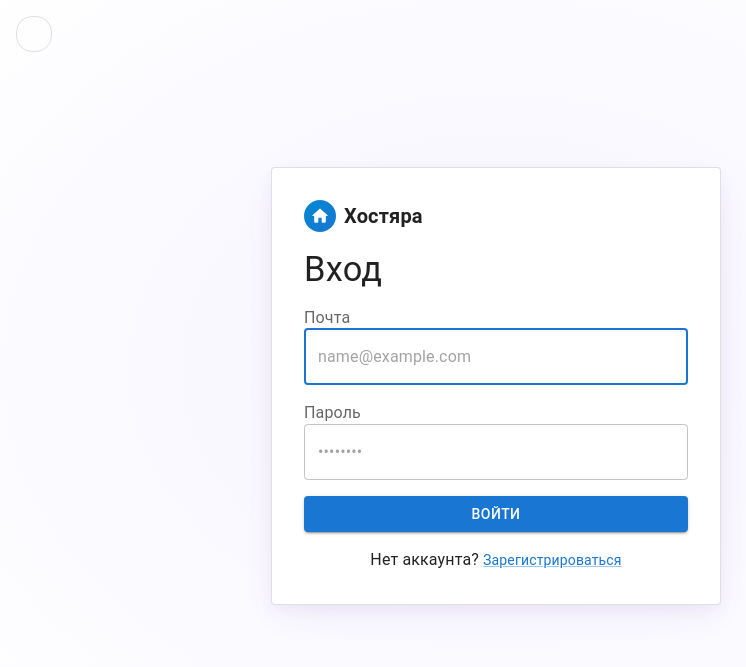
SessionGate › shows a wrong password without leaving the login screen
This screenshot has width=746, height=667.
Type "anna@example.com" into the field labelled "Почта" at (496, 357), box [304,329,688,385]
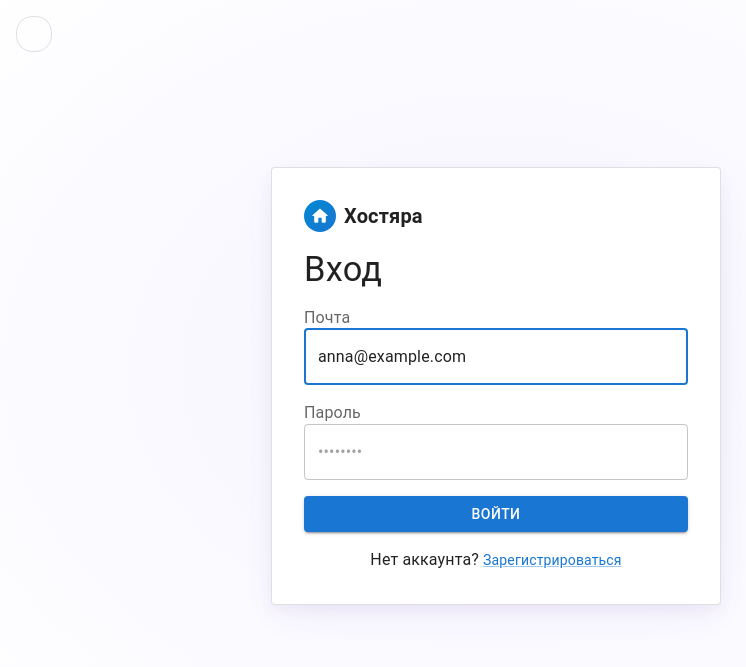
Type "wrong-password" into the password field labelled "Пароль" at (496, 452), box [304,424,688,480]
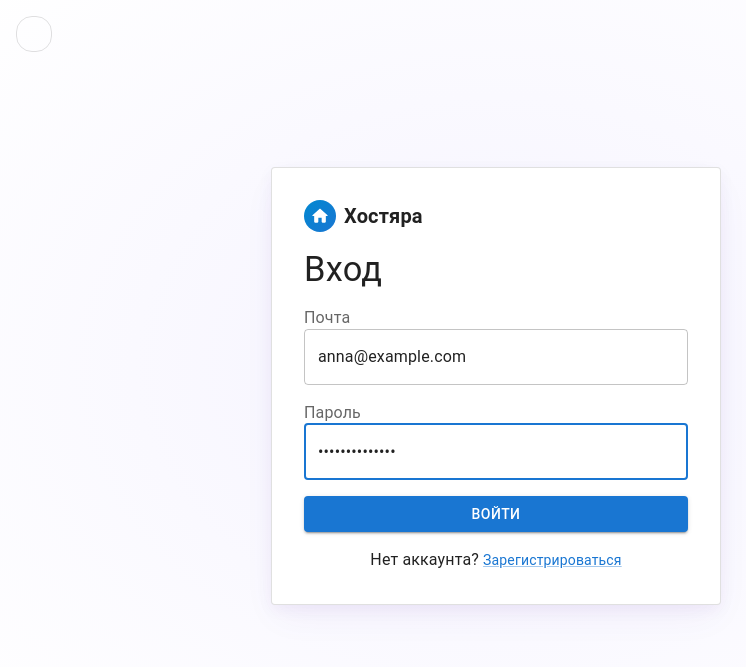
Click the button "Войти" at (496, 514), box [304,496,688,532]
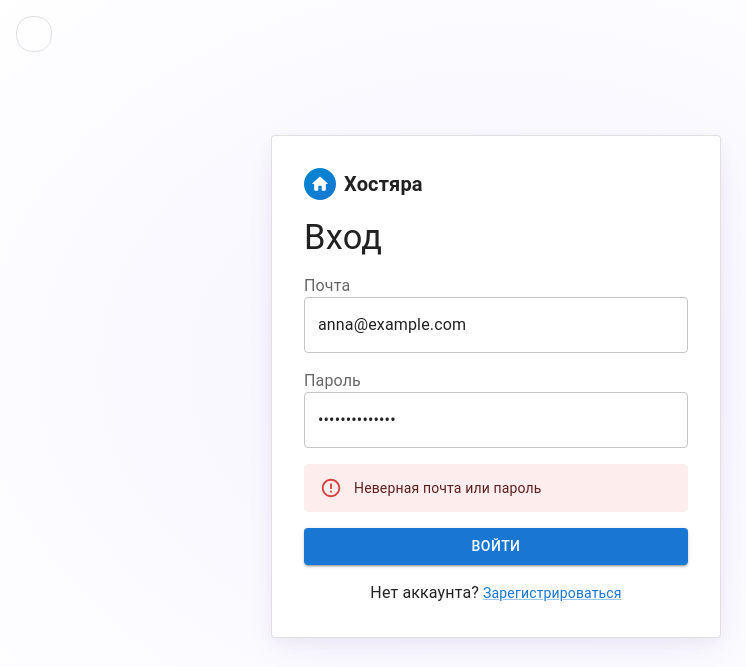
Expected: the heading "Вход" is shown, [304,216,382,256]
Result: the message reads "Неверная почта или пароль" at [354,480,542,496]
